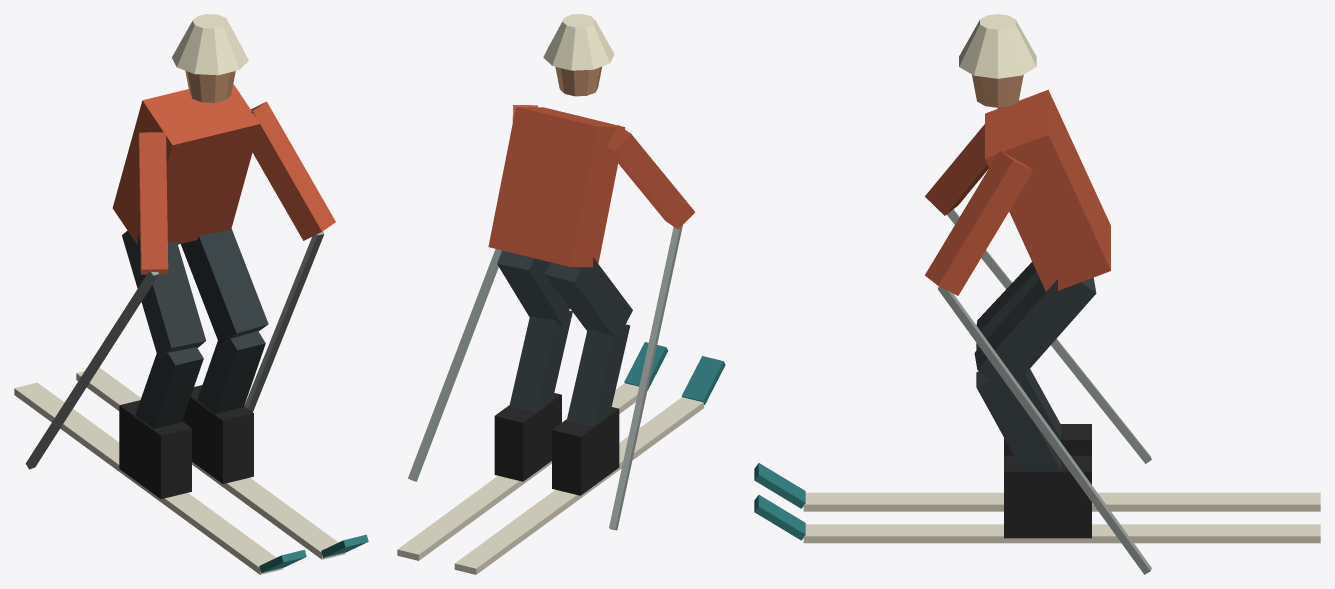
File: skier.meshopt.glb
3 views of the same model, side by side, from view 1: azimuth 30°, elevation 25°; view 2: azimuth 150°, elevation 25°; view 3: azimuth 270°, elevation 25° (orthographic). The views are drawn at different scales.
Visible parts, largest first — view 1: skier; view 2: skier; view 3: skier.
Part boxes in pixels (box(x1,y1,x2,y2)): skier: box(14, 14, 368, 574); skier: box(397, 14, 725, 574); skier: box(754, 14, 1320, 574).
Size of the model in its own units: 0.8678 by 1.76 by 1.81.
